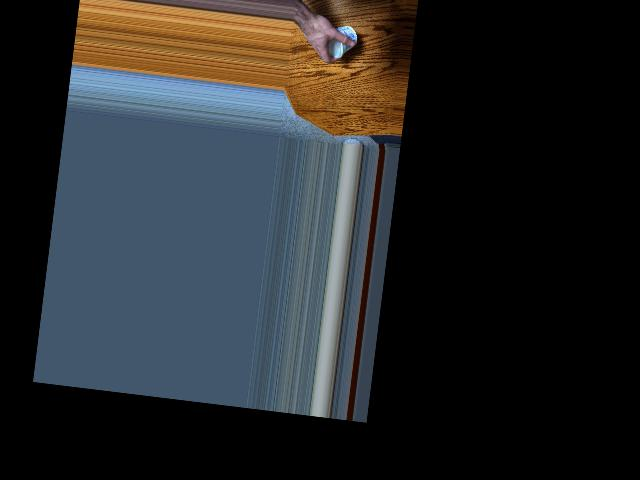cotage: (320, 19, 356, 61)
